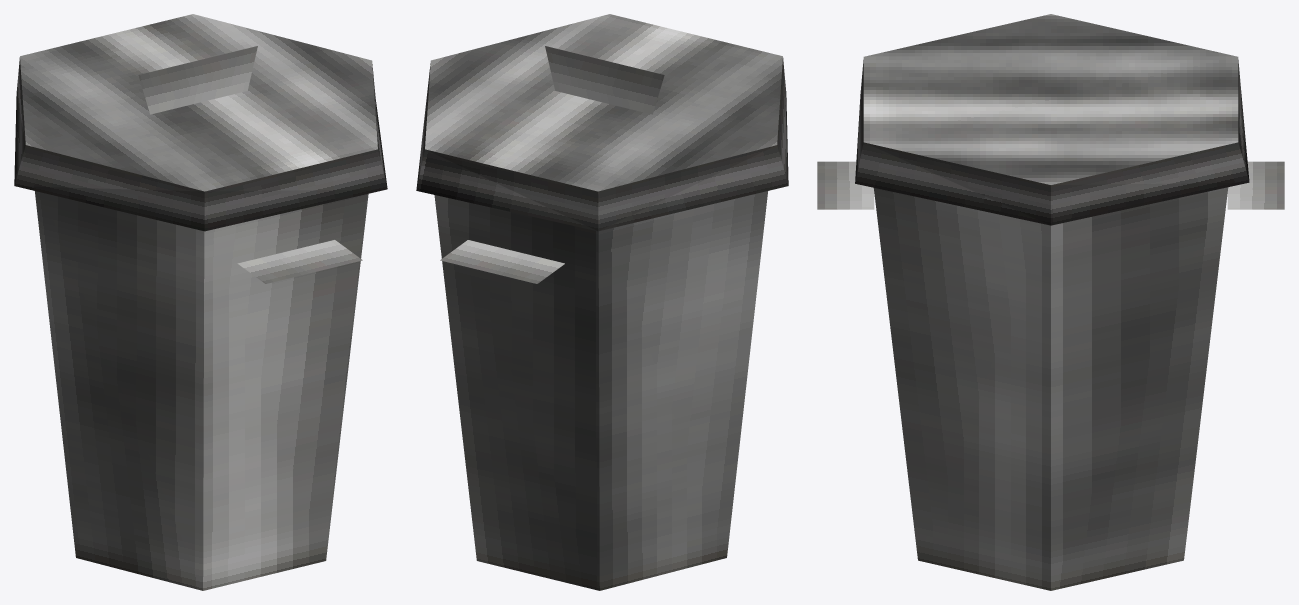
The model's file is TrashCan.FBX.
3 views of the same model, side by side, from view 1: azimuth 30°, elevation 25°; view 2: azimuth 150°, elevation 25°; view 3: azimuth 270°, elevation 25° (orthographic).
Visible parts, largest first — view 1: Trash Can; view 2: Trash Can; view 3: Trash Can.
Boxes of the visible parts, x1,y1,x2,y2 form: Trash Can: (14, 14, 387, 590); Trash Can: (416, 14, 788, 590); Trash Can: (817, 14, 1284, 590).
Bounding box in the file's own units: 88.94 × 110 × 98.4.
